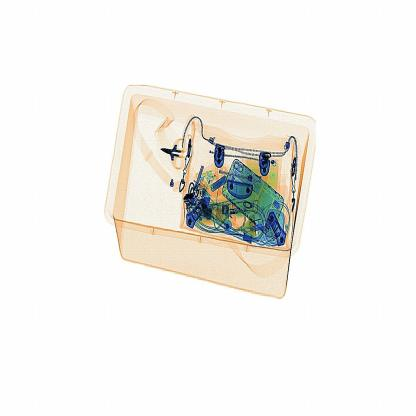gun: (159, 131, 200, 176)
